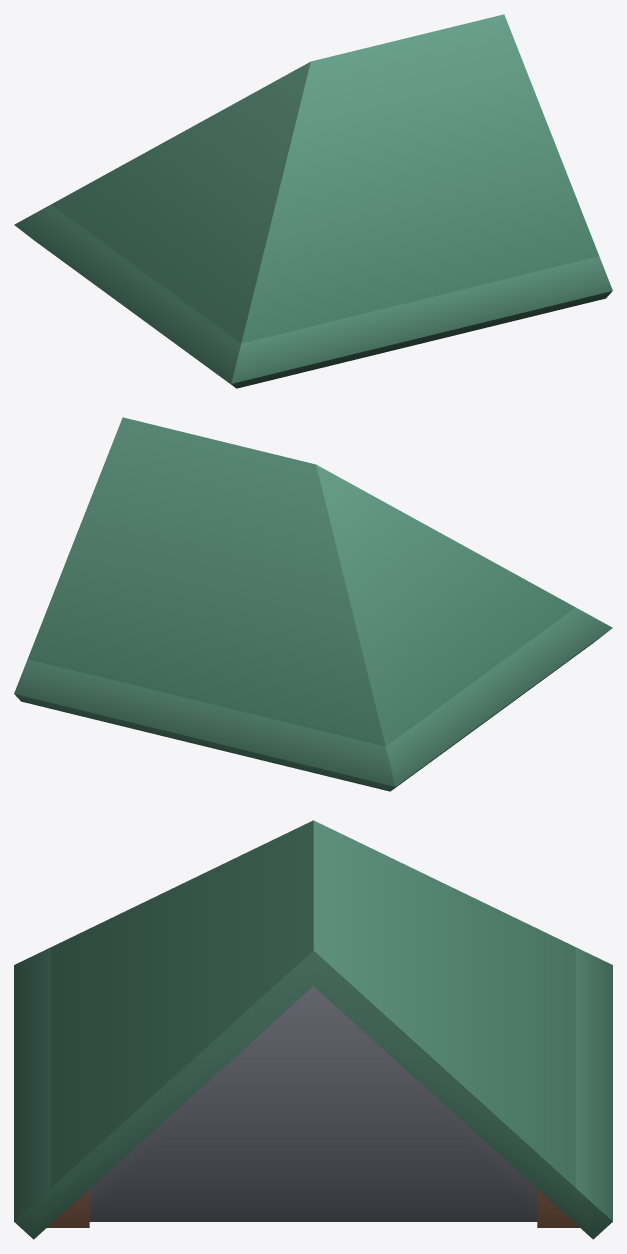
File: roof-gable-end.glb
The picture shows the model from 3 angles, top to bottom: view 1: azimuth 30°, elevation 25°; view 2: azimuth 150°, elevation 25°; view 3: azimuth 270°, elevation 25°; orthographic projection. The views are drawn at different scales.
Parts seen in each view (by area): view 1: roof-gable-end; view 2: roof-gable-end; view 3: roof-gable-end.
Part boxes in pixels (x1,y1,x2,y2): roof-gable-end: [14, 14, 612, 388]; roof-gable-end: [14, 417, 612, 791]; roof-gable-end: [14, 820, 612, 1239].
Bounding box in the file's own units: 3.26 × 1.71 × 3.21.
